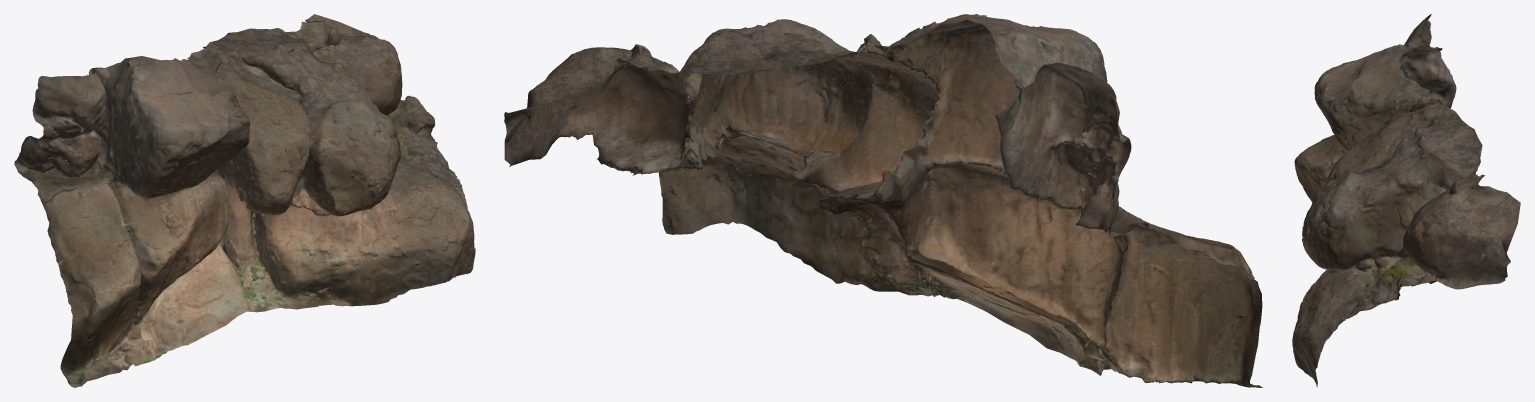
The model's file is namaqualand_cliff_01.glb.
3 views of the same model, side by side, from view 1: azimuth 30°, elevation 25°; view 2: azimuth 150°, elevation 25°; view 3: azimuth 270°, elevation 25° (orthographic). The views are drawn at different scales.
Parts seen in each view (by area): view 1: drone_rock_01; view 2: drone_rock_01; view 3: drone_rock_01.
Part boxes in pixels (<box>): drone_rock_01: <box>14,14,475,387</box>; drone_rock_01: <box>504,14,1263,387</box>; drone_rock_01: <box>1292,14,1520,387</box>.
Size of the model in its own units: 8.28 by 4.96 by 4.39.
1 material, 1 textured.
